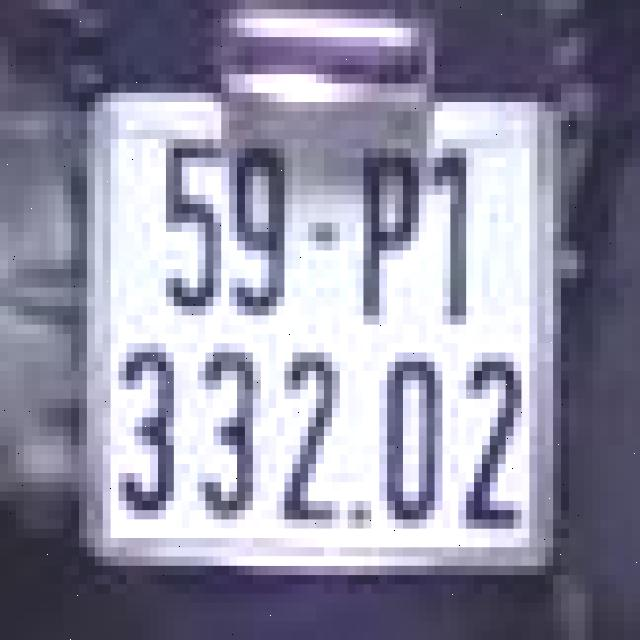0: (372, 348, 451, 533)
1: (427, 134, 490, 330)
2: (454, 338, 534, 542), (276, 348, 348, 533)
3: (106, 339, 186, 524), (193, 343, 264, 538)
5: (142, 130, 229, 324)
9: (229, 134, 292, 330)
P: (352, 134, 422, 320)
